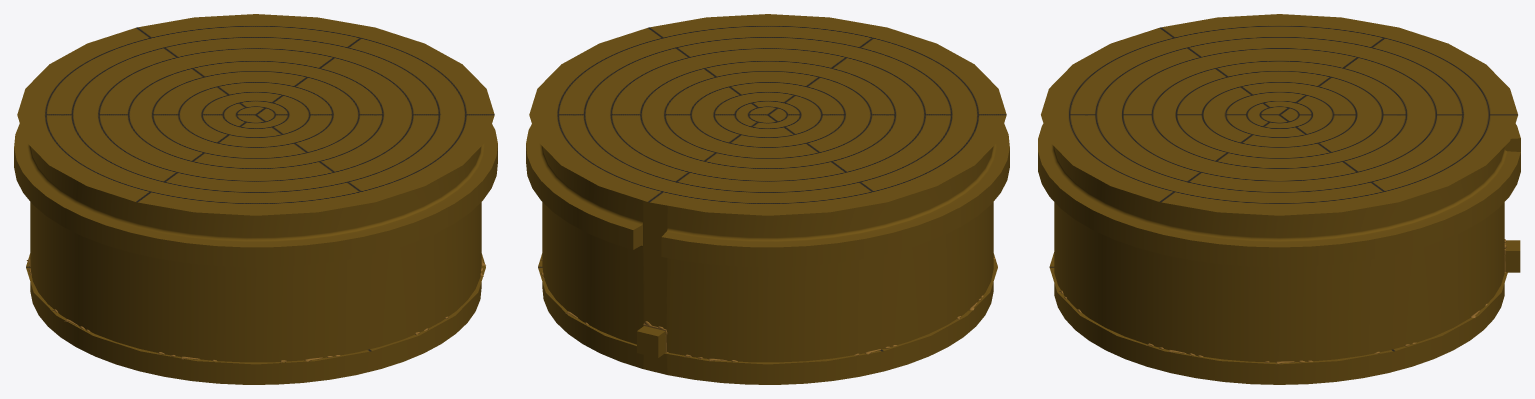
Rendered from BossRoom.fbx.
3 views of the same model, side by side, from view 1: azimuth 30°, elevation 25°; view 2: azimuth 150°, elevation 25°; view 3: azimuth 270°, elevation 25° (orthographic).
Parts seen in each view (by area): view 1: arena, dak2, vloer; view 2: arena, dak2, vloer; view 3: arena, dak2, vloer.
Boxes of the visible parts, left/top/right/bottom form: arena: left=14, top=123, right=497, bottom=384; dak2: left=17, top=14, right=494, bottom=215; vloer: left=26, top=253, right=485, bottom=364; arena: left=526, top=123, right=1009, bottom=384; dak2: left=529, top=14, right=1006, bottom=215; vloer: left=538, top=253, right=997, bottom=364; arena: left=1038, top=123, right=1520, bottom=384; dak2: left=1041, top=14, right=1517, bottom=215; vloer: left=1049, top=252, right=1507, bottom=364.
Size of the model in its own units: 843 by 336 by 841.
